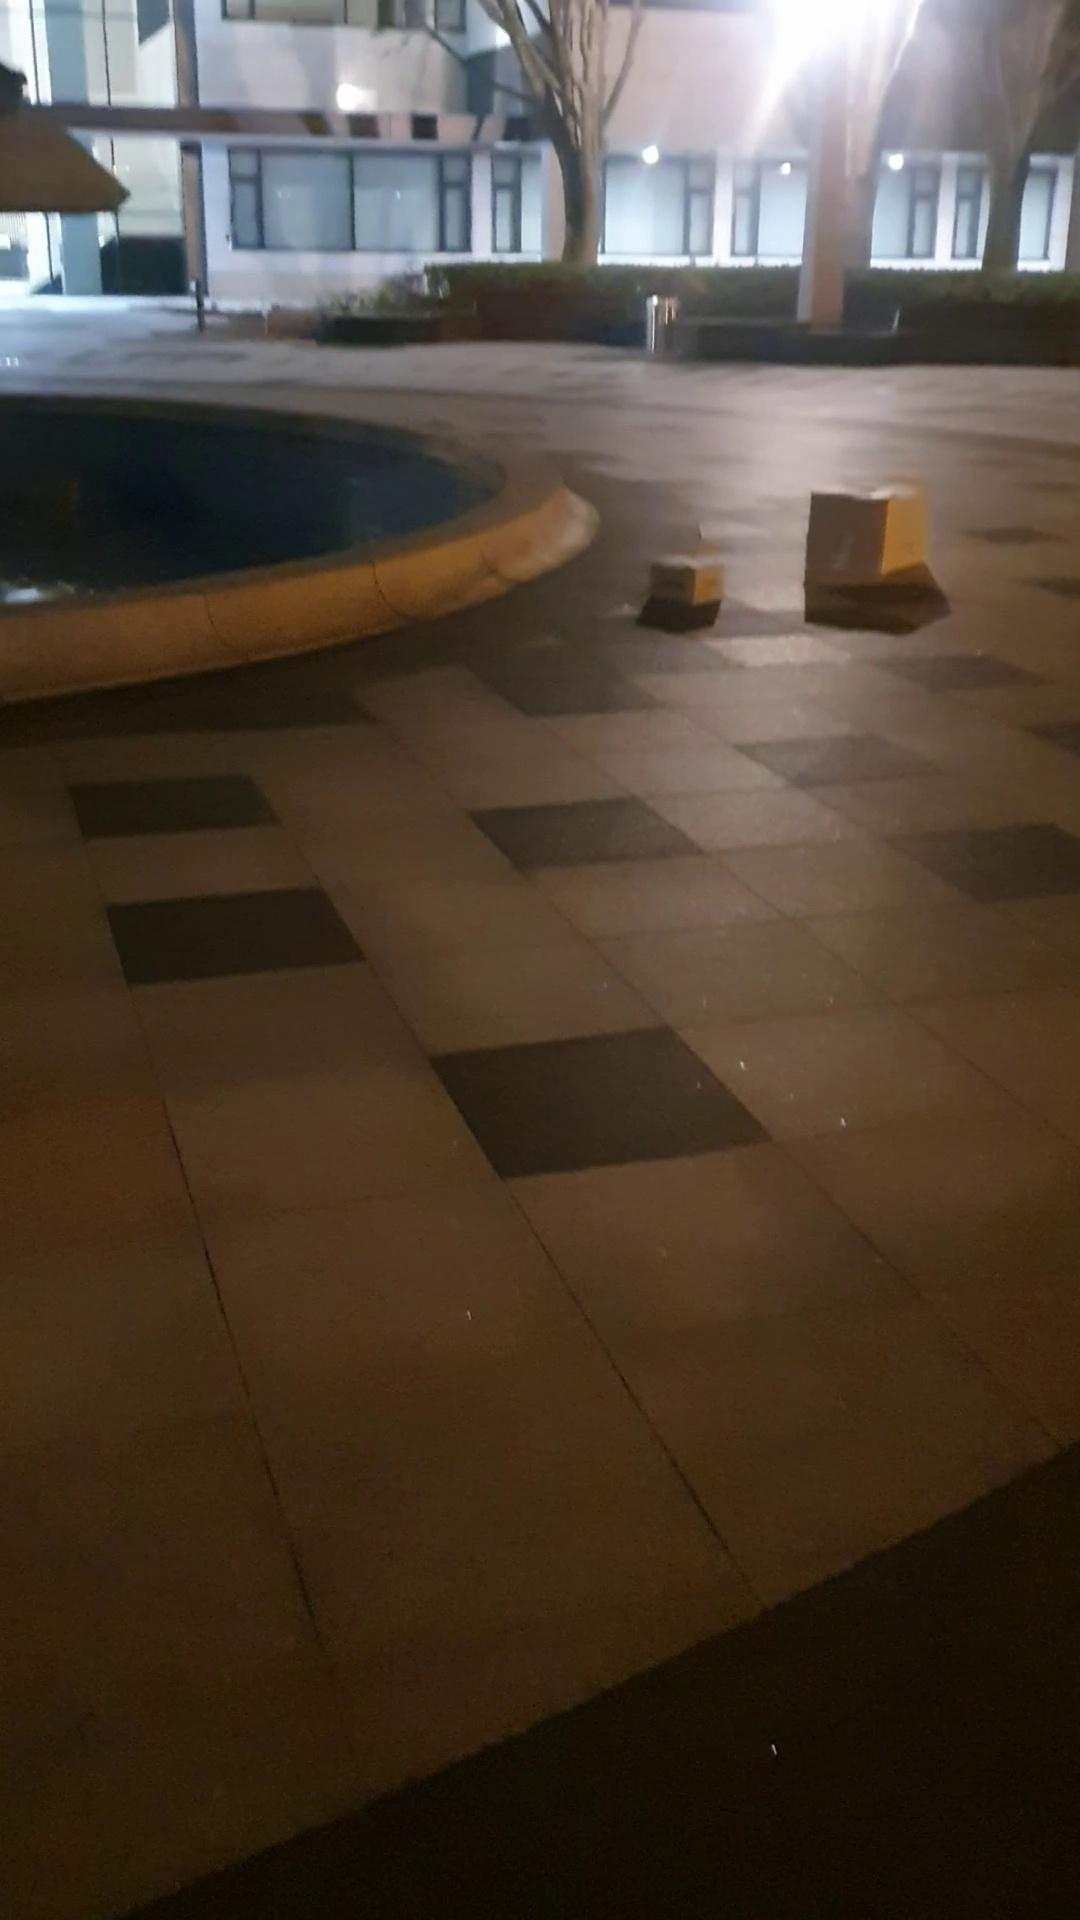Box: (791, 465, 942, 600), (641, 538, 732, 625)
